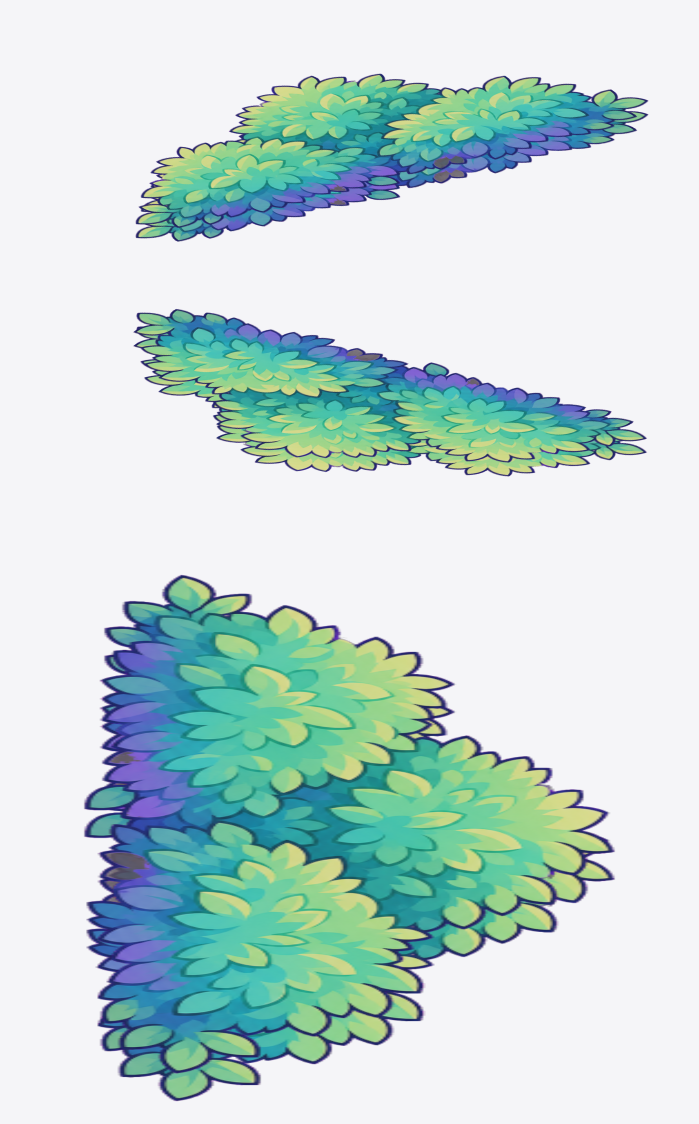
File: k_bush2.glb
3 views of the same model, one above another, from view 1: azimuth 30°, elevation 25°; view 2: azimuth 150°, elevation 25°; view 3: azimuth 270°, elevation 25° (orthographic). The views are drawn at different scales.
Parts seen in each view (by area): view 1: k_bush2; view 2: k_bush2; view 3: k_bush2.
Boxes of the visible parts, x1,y1,x2,y2 form: k_bush2: (135,73,648,241); k_bush2: (133,309,646,476); k_bush2: (84,575,614,1100).
Size of the model in its own units: 2 by 0.05 by 0.9336.
1 material, 1 textured.
